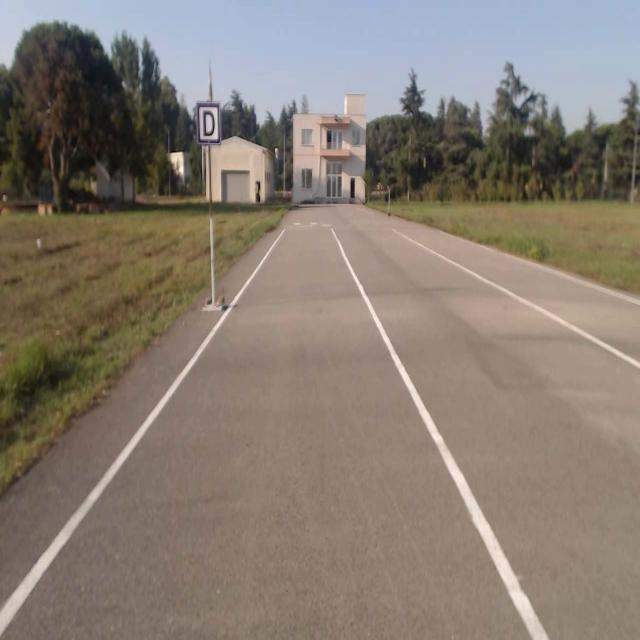durak: (196, 101, 222, 144)
